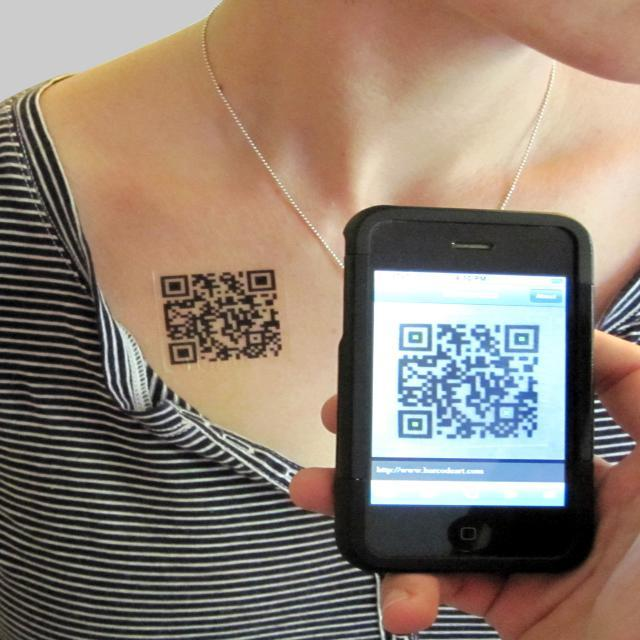qrcode: (399, 325, 540, 439), (161, 270, 284, 366)
